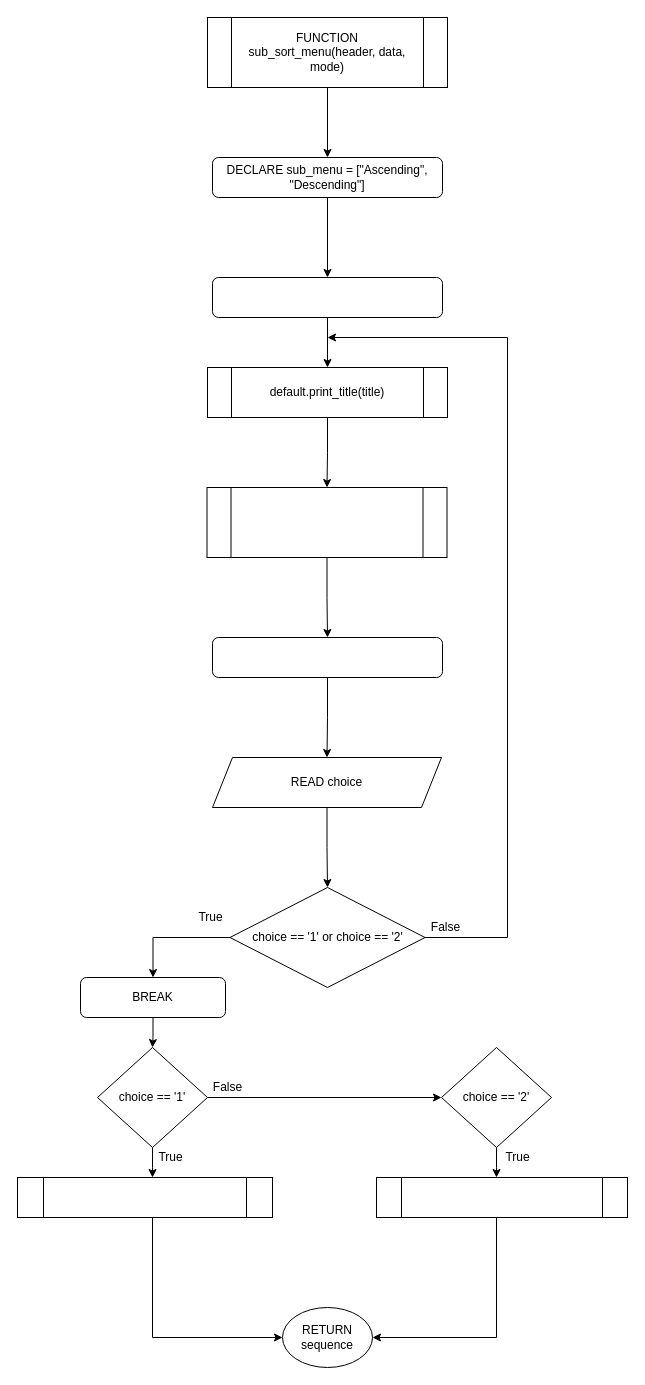
This 645x1385 diagram has some shape labels left out. Each missing label, with the centre of its shape:
default.general_menu(sub_menu): [326,522]
PRINT("Please Select: "): [327,657]
sequence = default.sort_data(data, header, 0, mode): [502,1197]
sequence = default.sort_data(data, header, 1, mode): [144,1197]
title = "You have chosen " + header + ": ": [327,297]
